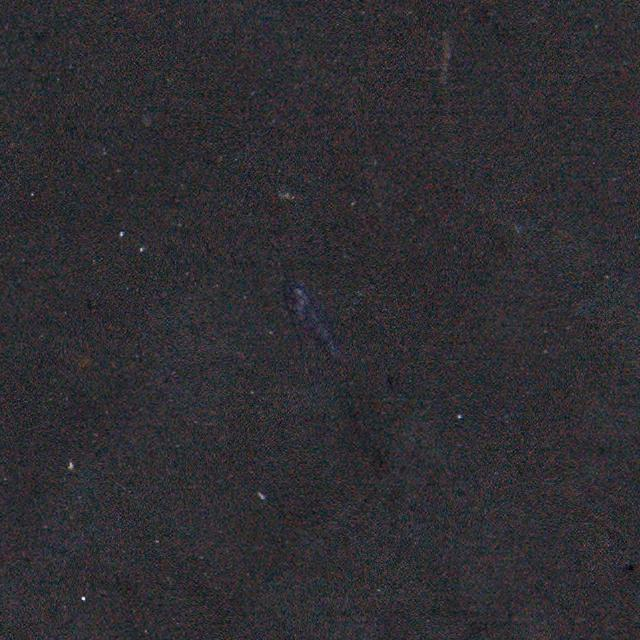flatfish: (284, 276, 344, 366)
